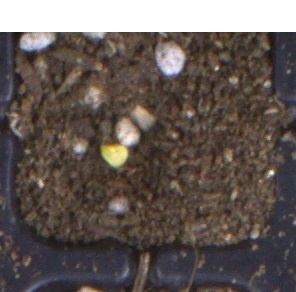chilli seed: (99, 143, 128, 169)
